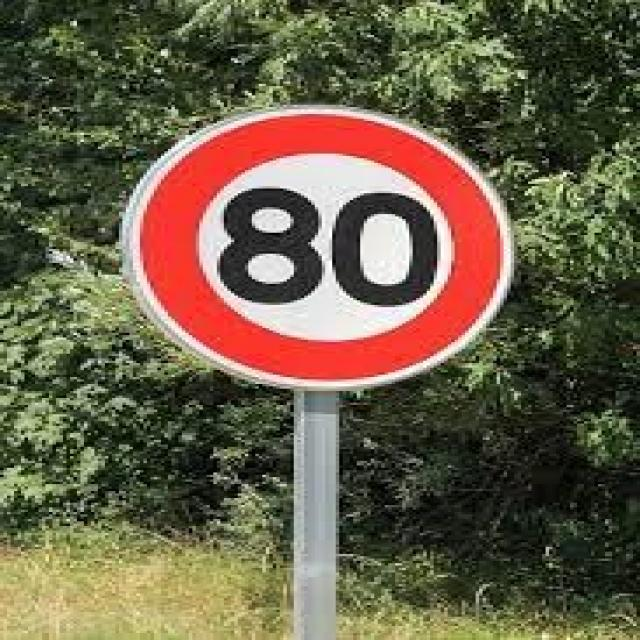speed_limit_80: (120, 96, 523, 392)
